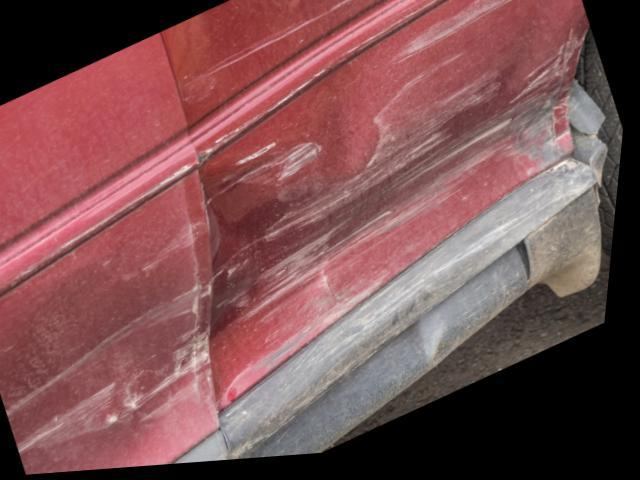dent: (218, 51, 581, 413), (190, 0, 388, 116)
scratch: (192, 0, 540, 219), (13, 285, 220, 463), (0, 151, 201, 291)
